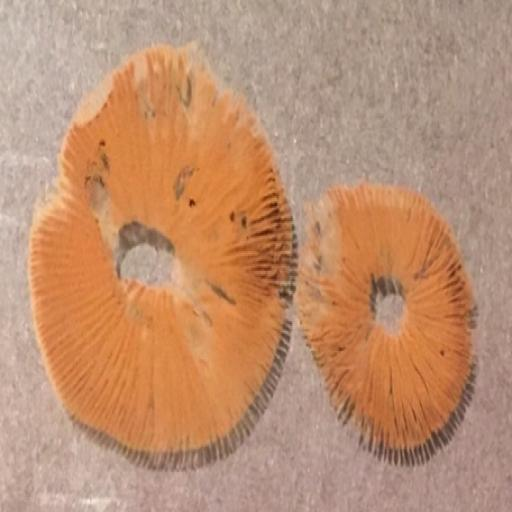mushroom: (26, 43, 296, 462), (298, 176, 479, 456)
